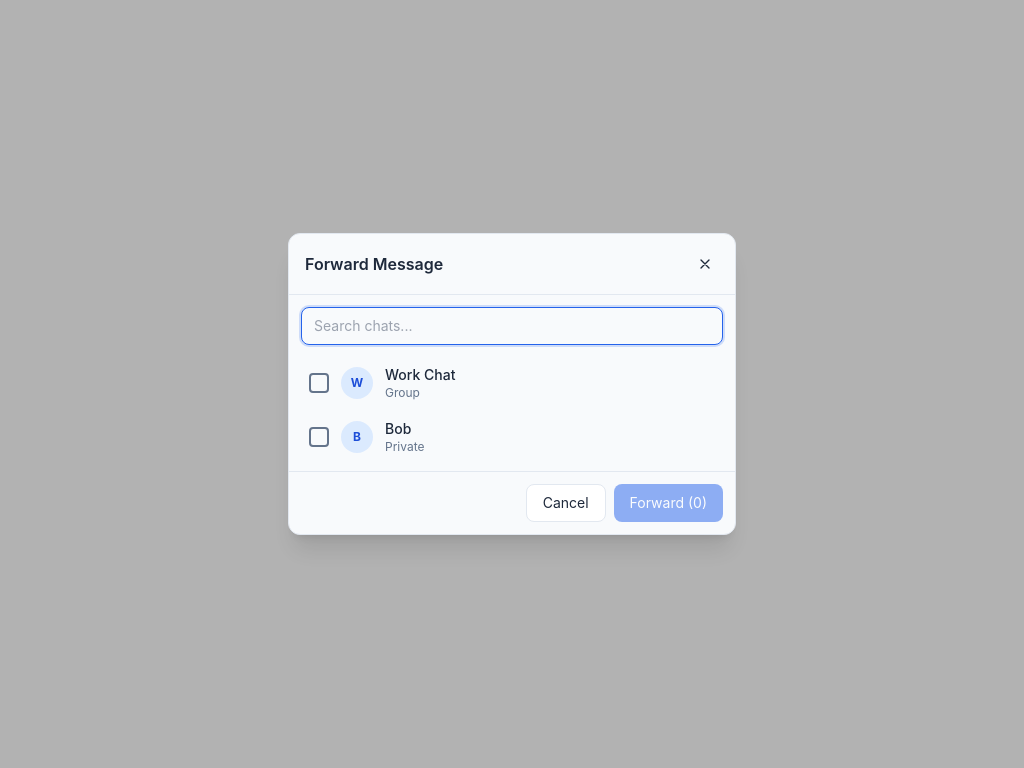
Test case: ForwardModal › FORWARD-WEB-04: should select session on click
The width and height of the screenshot is (1024, 768).
Click the text "Work Chat" at (420,374), box [385, 366, 455, 383]
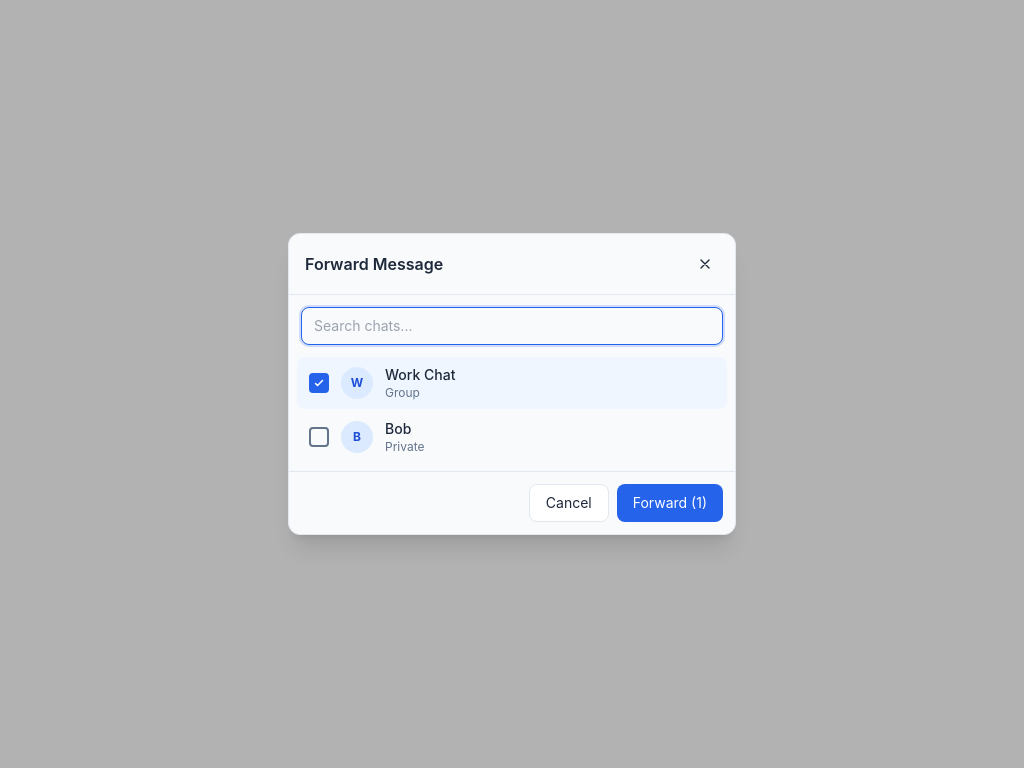
Now the button "Forward (1)" is shown, box [617, 484, 723, 522]
